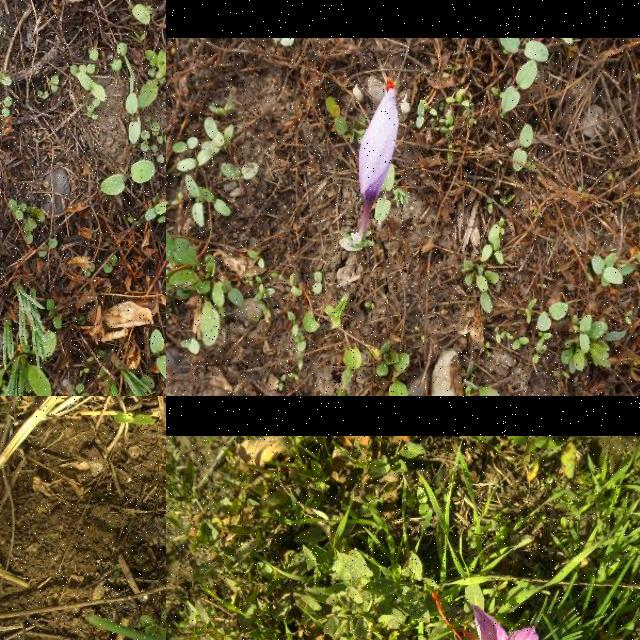flower: (422, 591, 594, 640), (358, 77, 399, 205)
